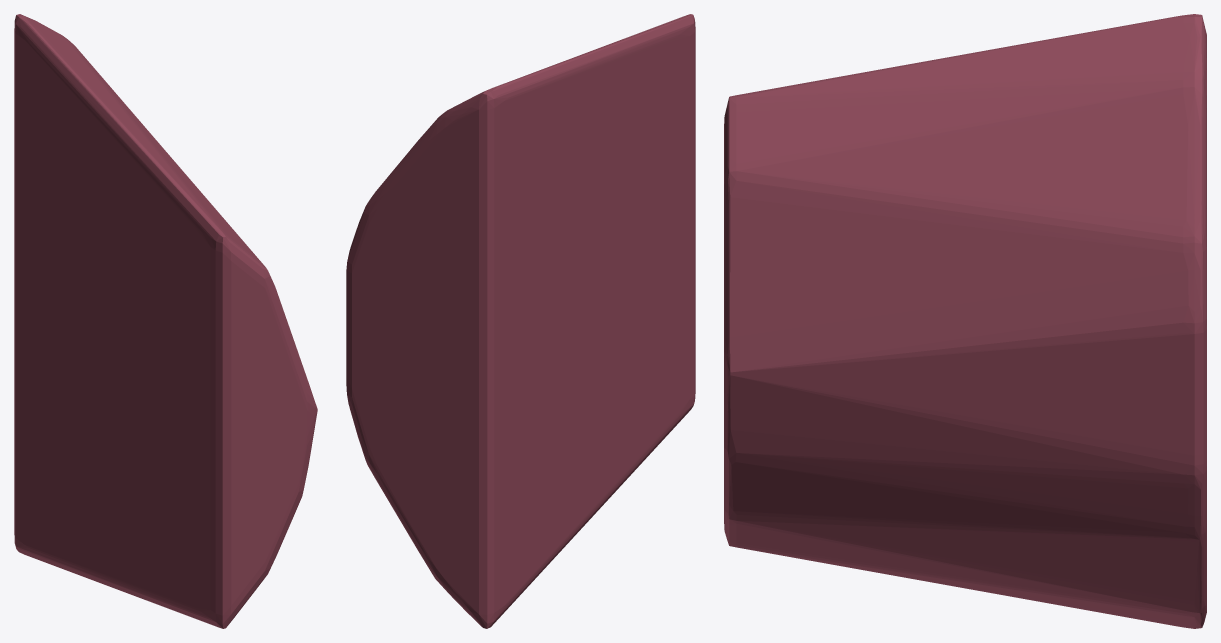
File: left_th_proximal_part_13.obj
The picture shows the model from 3 angles, left to right: view 1: azimuth 30°, elevation 25°; view 2: azimuth 150°, elevation 25°; view 3: azimuth 270°, elevation 25°; orthographic projection. The views are drawn at different scales.
Bounding box in the file's own units: 6.26 × 21.83 × 15.61.
